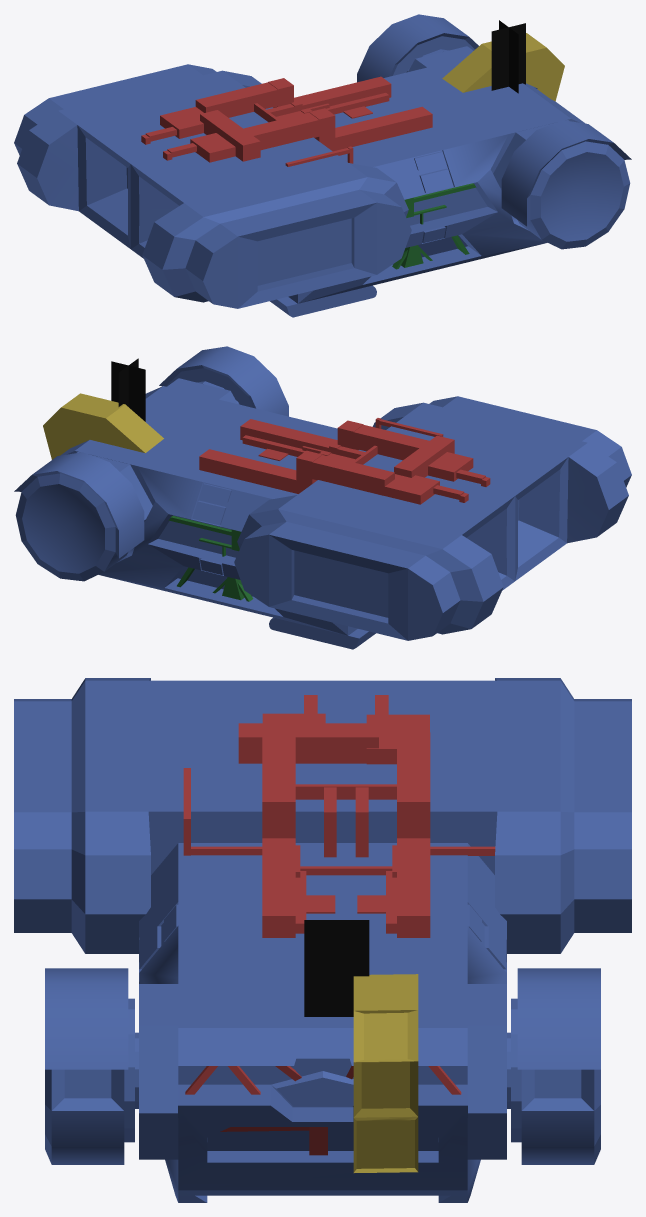
Rendered from Vliegmasjien_main.fbx.
The picture shows the model from 3 angles, top to bottom: view 1: azimuth 30°, elevation 25°; view 2: azimuth 150°, elevation 25°; view 3: azimuth 270°, elevation 25°; orthographic projection. The views are drawn at different scales.
Parts seen in each view (by area): view 1: VliegmasjienBody3_main, WiringBlokken_main, Cockpit_main, Antenna_Array_main, DeurenSide_main; view 2: VliegmasjienBody3_main, WiringBlokken_main, Cockpit_main, Antenna_Array_main, DeurenSide_main; view 3: VliegmasjienBody3_main, WiringBlokken_main, Cockpit_main, Antenna_Array_main.
Part boxes in pixels (box(x1,y1,x2,y2)): VliegmasjienBody3_main: box(14, 14, 631, 317); WiringBlokken_main: box(141, 76, 432, 166); Cockpit_main: box(442, 33, 564, 101); Antenna_Array_main: box(491, 20, 525, 93); DeurenSide_main: box(392, 183, 476, 269); VliegmasjienBody3_main: box(14, 346, 631, 649); WiringBlokken_main: box(199, 418, 490, 504); Cockpit_main: box(43, 393, 163, 459); Antenna_Array_main: box(111, 358, 145, 421); DeurenSide_main: box(168, 515, 253, 601); VliegmasjienBody3_main: box(14, 678, 631, 1202); WiringBlokken_main: box(183, 695, 495, 1155); Cockpit_main: box(353, 974, 418, 1172); Antenna_Array_main: box(304, 920, 369, 1016).
Size of the model in its own units: 14.13 by 5.3 by 9.55.
